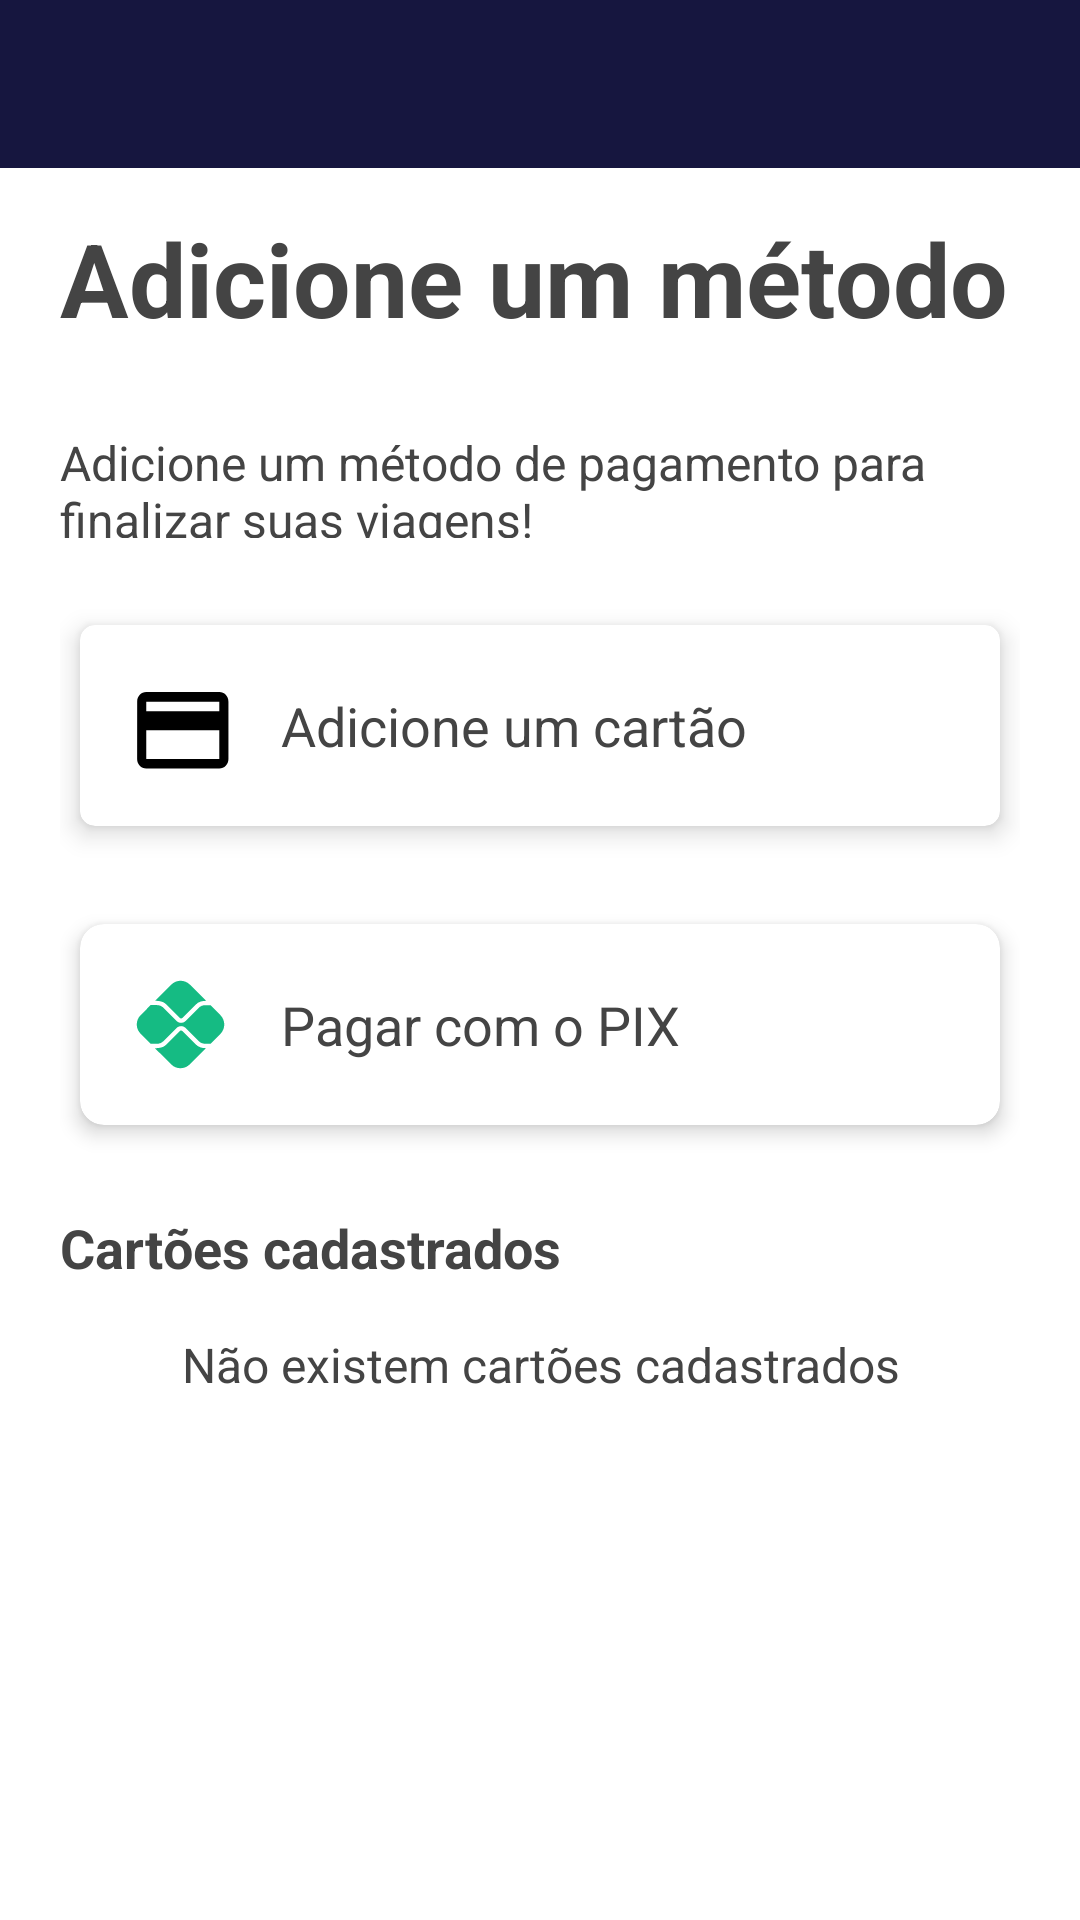

Point at icon controls on the screen. Image size 1080*1920, points as (x,y).
credit card: (183,730)
